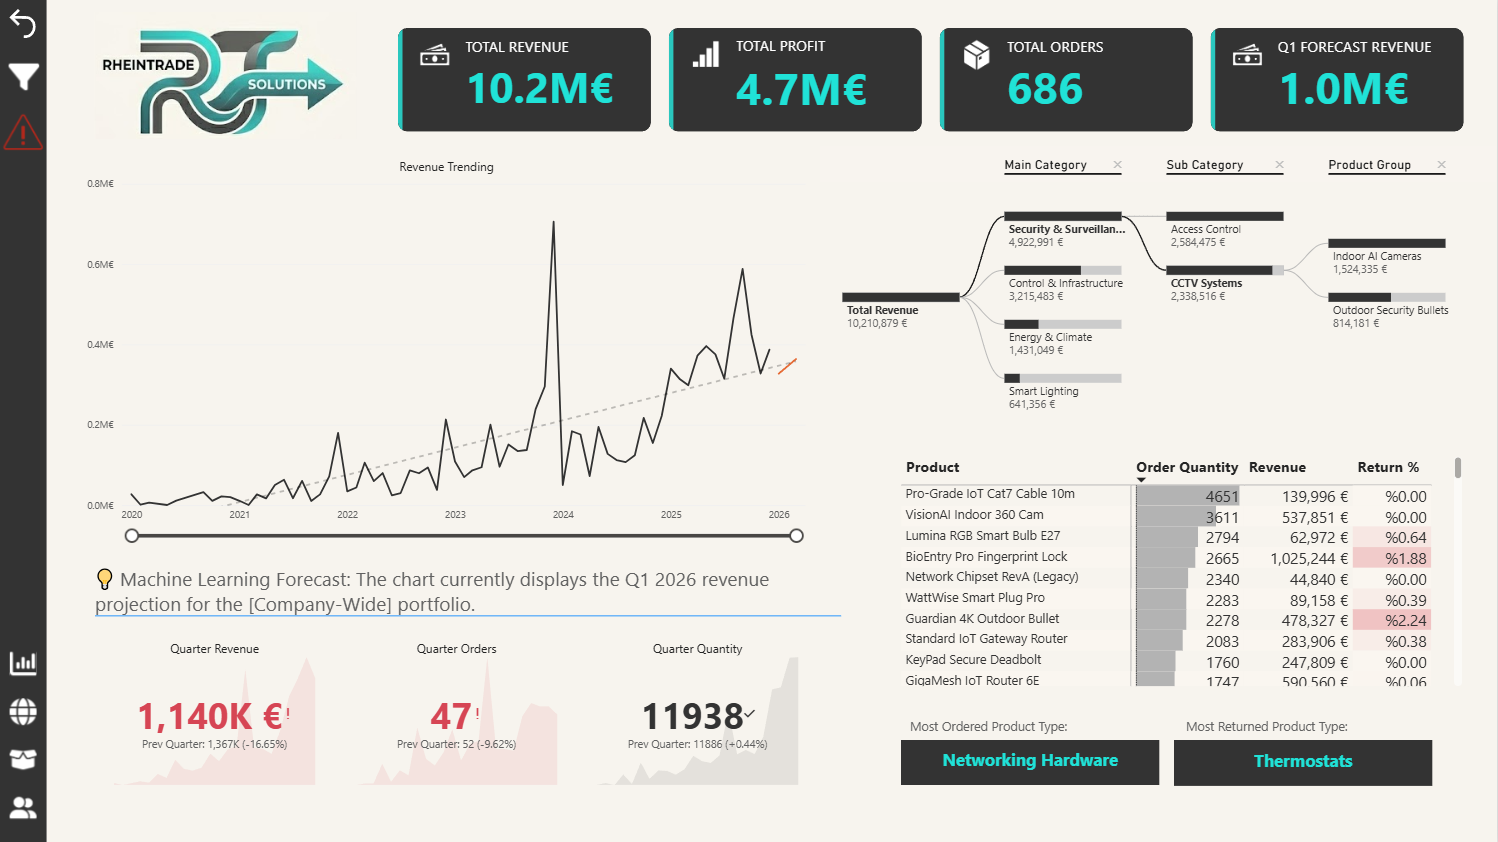

The page's visual inventory and layout, read from the dashboard file:
{"tool":"powerbi","page":{"name":"Executive Overview","canvas":[1664,936],"ordinal":0},"visuals":[{"type":"cardVisual","fields":{"Data":["Key Measures.Total Revenue","Key Measures.Total Profit","Key Measures.Total Orders","Key Measures.Forecast Revenue"]},"box":[443.7,31.2,1185,115],"z":0},{"type":"actionButton","box":[7.7,714.4,64,46.1],"z":0,"group":"g1"},{"type":"lineChart","title":"Revenue Trending","fields":{"Category":["Dim_Calendar.Start of Year","Dim_Calendar.Start of Quarter","Dim_Calendar.Start of Month"],"Y":["Key Measures.Total Revenue","Key Measures.Forecast Revenue"]},"box":[81.2,162.5,832.5,455],"z":1000},{"type":"actionButton","box":[7.7,767.7,64,46.1],"z":1000,"group":"g1"},{"type":"decompositionTreeVisual","fields":{"Analyze":["Key Measures.Total Revenue"],"ExplainBy":["Categories.Level 1 Main Category","Categories.Level 2 Sub Category","Categories.Product Group"]},"box":[911.7,162.5,751.2,331.2],"z":2000},{"type":"actionButton","box":[7.7,821,64,46.1],"z":2000,"group":"g1"},{"type":"kpi","title":"Quarter Revenue","fields":{"Goal":["Key Measures.Previous Quarter Revenue"],"Indicator":["Key Measures.Total Revenue"],"TrendLine":["Dim_Calendar.Start of Quarter"]},"box":[127.5,711,223.8,161.2],"z":3000},{"type":"actionButton","box":[7.7,874.3,64,46.1],"z":3000,"group":"g1"},{"type":"kpi","title":"Quarter Orders","fields":{"Goal":["Key Measures.Previous Quarter Orders"],"Indicator":["Key Measures.Total Orders"],"TrendLine":["Dim_Calendar.Start of Quarter"]},"box":[396.2,711,223.8,161.2],"z":4000},{"type":"kpi","title":"Quarter Quantity","fields":{"Goal":["Key Measures.Previous Quarter Quantity"],"Indicator":["Key Measures.Total Quantity Sold"],"TrendLine":["Dim_Calendar.Start of Quarter"]},"box":[665,711,223.8,161.2],"z":5000},{"type":"pivotTable","fields":{"Rows":["Products.ProductName"],"Values":["Key Measures.Total Quantity Sold","Key Measures.Total Revenue","Key Measures.Return Rate %"]},"box":[986.2,493.7,655,285],"z":6000},{"type":"card","fields":{"Values":["Min(Categories.Sub Category)"]},"box":[1002.7,822,287.1,50],"z":7000},{"type":"textbox","box":[1012.7,796.2,192.9,30],"z":8000},{"type":"card","fields":{"Values":["Min(Categories.Sub Category)"]},"box":[1305.6,822,287.1,51.4],"z":9000},{"type":"textbox","box":[1318.5,796.2,192.9,30],"z":10000},{"type":"textbox","box":[106.2,627.5,828.8,66.2],"z":11000},{"type":"image","box":[69.8,12.9,362.9,141.4],"z":12000},{"type":"shape","title":"Left Nav Background","box":[0,0,52.9,935.7],"z":13000},{"type":"actionButton","box":[0,4.3,52.9,40],"z":14000},{"type":"group","id":"g1","title":"Navigation Buttons","box":[7.7,714.4,64,206],"z":15000},{"type":"actionButton","box":[7.1,64.3,45.7,40],"z":16000},{"type":"actionButton","box":[0,112.5,53.8,70],"z":16500}]}

Visuals, with their boxes on the page's 1664x936 design canvas (x1, y1, x2, y2). These are canvas units, not pixel positions in the 1498x842 screenshot, which may show the page scaled, cropped or inside an application window:
cardVisual - Key Measures.Total Revenue x Key Measures.Total Profit: box(444, 31, 1629, 146)
actionButton: box(8, 714, 72, 760)
"Revenue Trending" lineChart: box(81, 162, 914, 618)
actionButton: box(8, 768, 72, 814)
decompositionTreeVisual - Key Measures.Total Revenue x Categories.Level 1 Main Category: box(912, 162, 1663, 494)
actionButton: box(8, 821, 72, 867)
"Quarter Revenue" kpi: box(128, 711, 351, 872)
actionButton: box(8, 874, 72, 920)
"Quarter Orders" kpi: box(396, 711, 620, 872)
"Quarter Quantity" kpi: box(665, 711, 889, 872)
pivotTable - Products.ProductName x Key Measures.Total Quantity Sold: box(986, 494, 1641, 779)
card - Min(Categories.Sub Category): box(1003, 822, 1290, 872)
textbox: box(1013, 796, 1206, 826)
card - Min(Categories.Sub Category): box(1306, 822, 1593, 873)
textbox: box(1318, 796, 1511, 826)
textbox: box(106, 628, 935, 694)
image: box(70, 13, 433, 154)
"Left Nav Background" shape: box(0, 0, 53, 936)
actionButton: box(0, 4, 53, 44)
"Navigation Buttons" group: box(8, 714, 72, 920)
actionButton: box(7, 64, 53, 104)
actionButton: box(0, 112, 54, 182)
